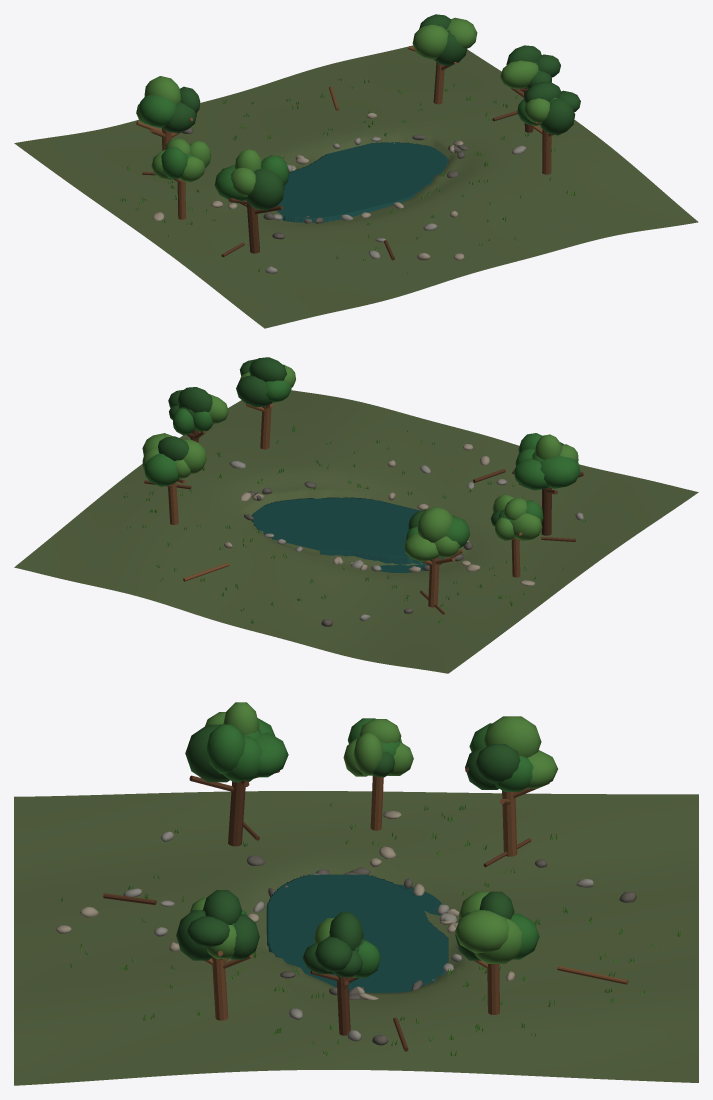
File: addypond.glb
3 renders of one model, top to bottom at view 1: azimuth 30°, elevation 25°; view 2: azimuth 150°, elevation 25°; view 3: azimuth 270°, elevation 25°, orthographic. The views are drawn at different scales.
Parts seen in each view (by area): view 1: ADDY_FOREST_GROUND, ADDY_POND_WATER, TREE_FOLIAGE.020, TREE_FOLIAGE.014, TREE_FOLIAGE.006, TREE_FOLIAGE.028, TREE_FOLIAGE.046, TREE_FOLIAGE.038, TREE_FOLIAGE.007, TREE_FOLIAGE.013, TREE_FOLIAGE.004, TREE_FOLIAGE.018 (+5 smaller); view 2: ADDY_FOREST_GROUND, ADDY_POND_WATER, TREE_FOLIAGE.018, TREE_FOLIAGE.007, TREE_FOLIAGE.011, TREE_FOLIAGE.027, TREE_FOLIAGE.019, TREE_FOLIAGE.031, TREE_FOLIAGE.047, TREE_FOLIAGE.003, TREE_FOLIAGE.034, TREE_FOLIAGE.015 (+3 smaller); view 3: ADDY_FOREST_GROUND, ADDY_POND_WATER, TREE_FOLIAGE.013, TREE_FOLIAGE.007, TREE_FOLIAGE.021, TREE_FOLIAGE.005, TREE_FOLIAGE.020, TREE_FOLIAGE.029, TREE_FOLIAGE.019, TREE_FOLIAGE.045, TREE_FOLIAGE.031, TREE_FOLIAGE.037 (+18 smaller).
Part boxes in pixels (box(x1,y1,x2,y2)): ADDY_FOREST_GROUND: box(14, 45, 698, 328); ADDY_POND_WATER: box(276, 142, 448, 222); TREE_FOLIAGE.020: box(246, 168, 284, 210); TREE_FOLIAGE.014: box(412, 24, 448, 59); TREE_FOLIAGE.006: box(138, 95, 176, 127); TREE_FOLIAGE.028: box(540, 98, 575, 135); TREE_FOLIAGE.046: box(500, 60, 538, 88); TREE_FOLIAGE.038: box(161, 147, 187, 179); TREE_FOLIAGE.007: box(144, 76, 180, 103); TREE_FOLIAGE.013: box(446, 17, 477, 48); TREE_FOLIAGE.004: box(162, 102, 196, 133); TREE_FOLIAGE.018: box(214, 165, 246, 201); ADDY_FOREST_GROUND: box(14, 390, 698, 673); ADDY_POND_WATER: box(251, 497, 443, 572); TREE_FOLIAGE.018: box(540, 455, 580, 488); TREE_FOLIAGE.007: box(417, 506, 453, 542); TREE_FOLIAGE.011: box(144, 453, 179, 486); TREE_FOLIAGE.027: box(236, 375, 272, 407); TREE_FOLIAGE.019: box(513, 458, 548, 490); TREE_FOLIAGE.031: box(249, 357, 286, 381); TREE_FOLIAGE.047: box(177, 387, 212, 412); TREE_FOLIAGE.003: box(404, 533, 438, 561); TREE_FOLIAGE.034: box(511, 513, 542, 540); TREE_FOLIAGE.015: box(158, 436, 188, 460); ADDY_FOREST_GROUND: box(14, 791, 698, 1085); ADDY_POND_WATER: box(266, 874, 448, 992); TREE_FOLIAGE.013: box(455, 910, 509, 953); TREE_FOLIAGE.007: box(483, 716, 541, 757); TREE_FOLIAGE.021: box(206, 724, 245, 773); TREE_FOLIAGE.005: box(475, 744, 520, 783); TREE_FOLIAGE.020: box(185, 724, 229, 782); TREE_FOLIAGE.029: box(187, 916, 229, 946); TREE_FOLIAGE.019: box(256, 732, 288, 777); TREE_FOLIAGE.045: box(314, 937, 352, 971); TREE_FOLIAGE.031: box(203, 890, 241, 924); TREE_FOLIAGE.037: box(353, 733, 383, 775).
Bounding box in the file's own units: 26 × 6.27 × 26.
